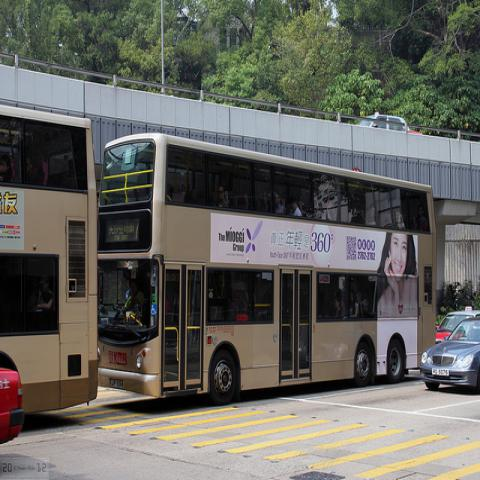bus: (98, 132, 437, 406), (0, 107, 99, 413)
car: (419, 317, 479, 396), (0, 369, 23, 445), (436, 309, 479, 345), (356, 114, 412, 133)
